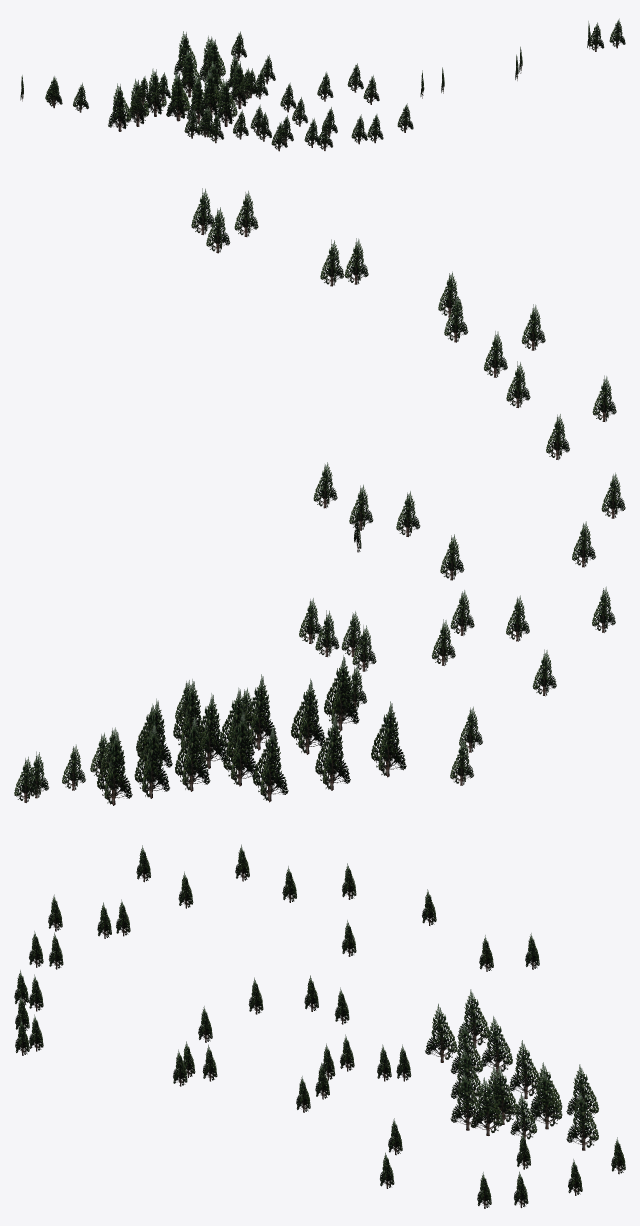
File: RM_PLAYSURFACE_FINAL_INST_PINE_LOD1_219.fbx
3 views of the same model, one above another, from view 1: azimuth 30°, elevation 25°; view 2: azimuth 150°, elevation 25°; view 3: azimuth 270°, elevation 25° (orthographic). The views are drawn at different scales.
Parts seen in each view (by area): view 1: RM_PLAYSURFACE_FINAL_INST_PINE_LOD1_219; view 2: RM_PLAYSURFACE_FINAL_INST_PINE_LOD1_219; view 3: RM_PLAYSURFACE_FINAL_INST_PINE_LOD1_219.
Boxes of the visible parts, bbox=[...] form: RM_PLAYSURFACE_FINAL_INST_PINE_LOD1_219: bbox=[20, 18, 625, 151]; RM_PLAYSURFACE_FINAL_INST_PINE_LOD1_219: bbox=[14, 188, 625, 805]; RM_PLAYSURFACE_FINAL_INST_PINE_LOD1_219: bbox=[14, 844, 625, 1208].
Size of the model in its own units: 751857 by 392476 by 805157.
1 material, 1 textured.
